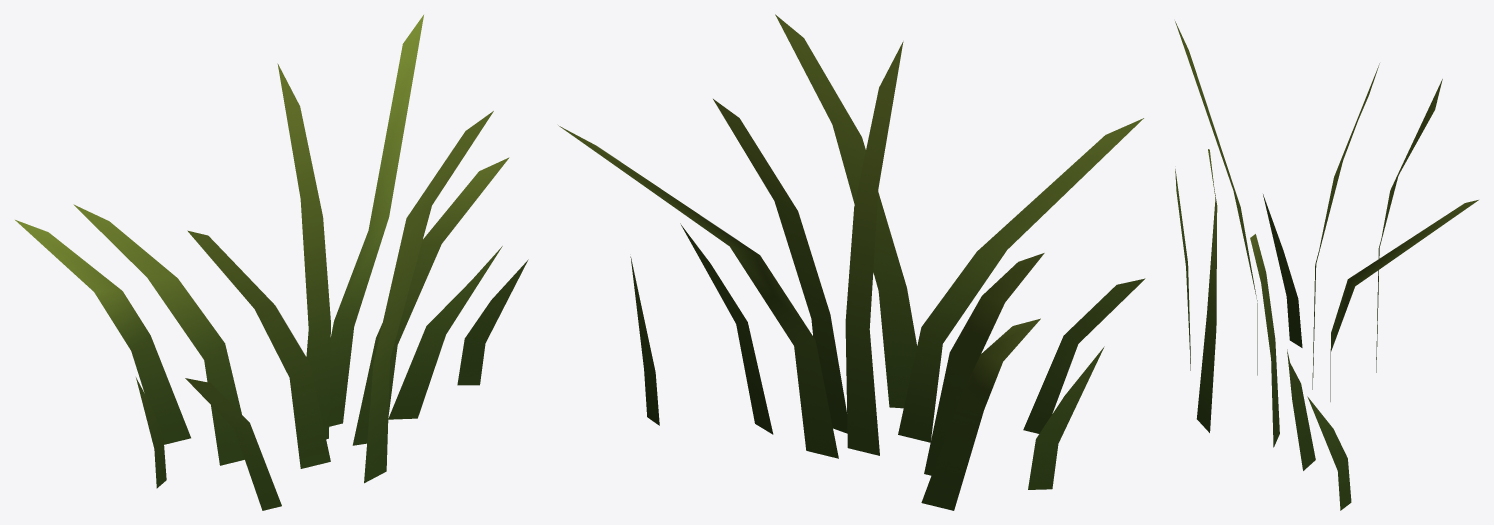
The model's file is Grass_Small.glb.
3 views of the same model, side by side, from view 1: azimuth 30°, elevation 25°; view 2: azimuth 150°, elevation 25°; view 3: azimuth 270°, elevation 25° (orthographic). The views are drawn at different scales.
Visible parts, largest first — view 1: Grass_Small; view 2: Grass_Small; view 3: Grass_Small.
Part boxes in pixels (<box>): Grass_Small: <box>15,15,528,510</box>; Grass_Small: <box>558,14,1145,510</box>; Grass_Small: <box>1175,21,1478,510</box>.
Bounding box in the file's own units: 0.47 × 0.3941 × 0.2775.
1 material, 1 textured.
